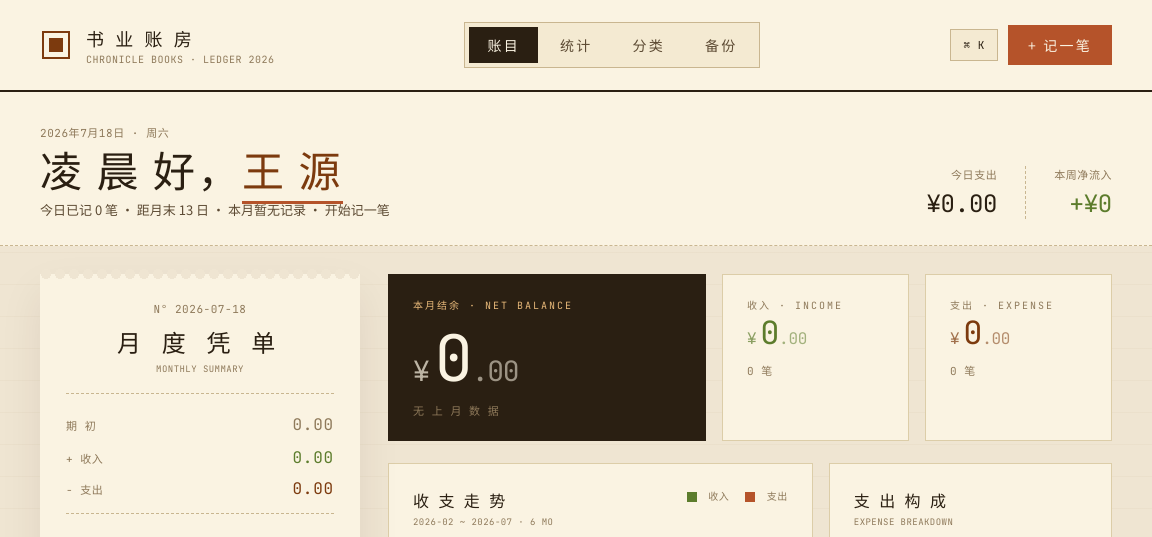
账本用户行为基线 › 期初余额编辑会在关闭前同步刷新本地副本
This screenshot has width=1152, height=537.
Step 1. Click the button titled "点击编辑期初余额" → (81, 426), box [58,412,342,437]
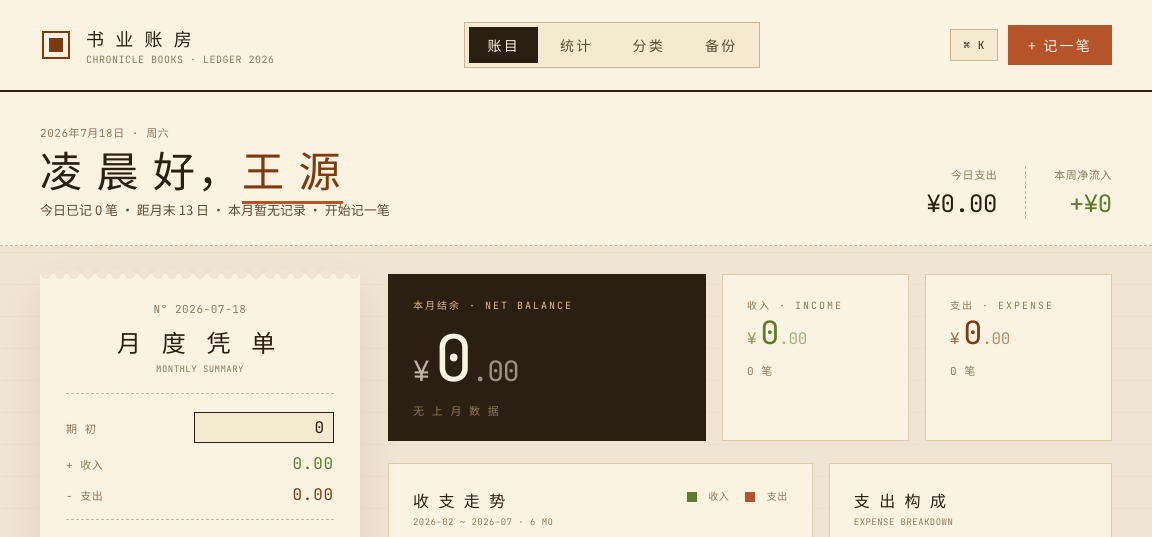
Now the field is shown
Step 2. Replace the text in the field with "777" → (264, 428), box [194,412,334,443]
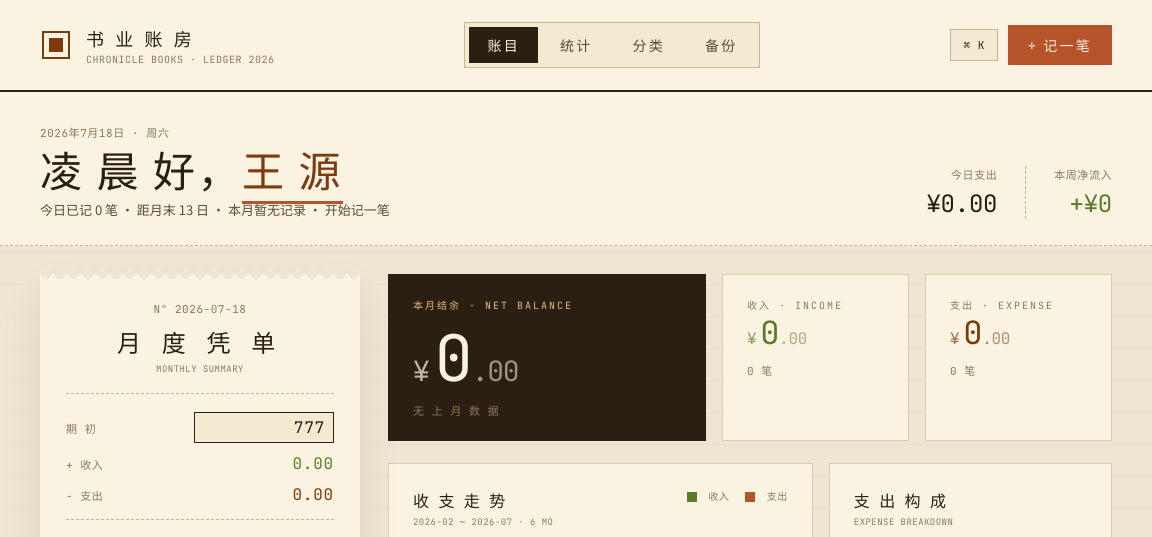
Step 3. Press Enter in the field, box [194,412,334,443]
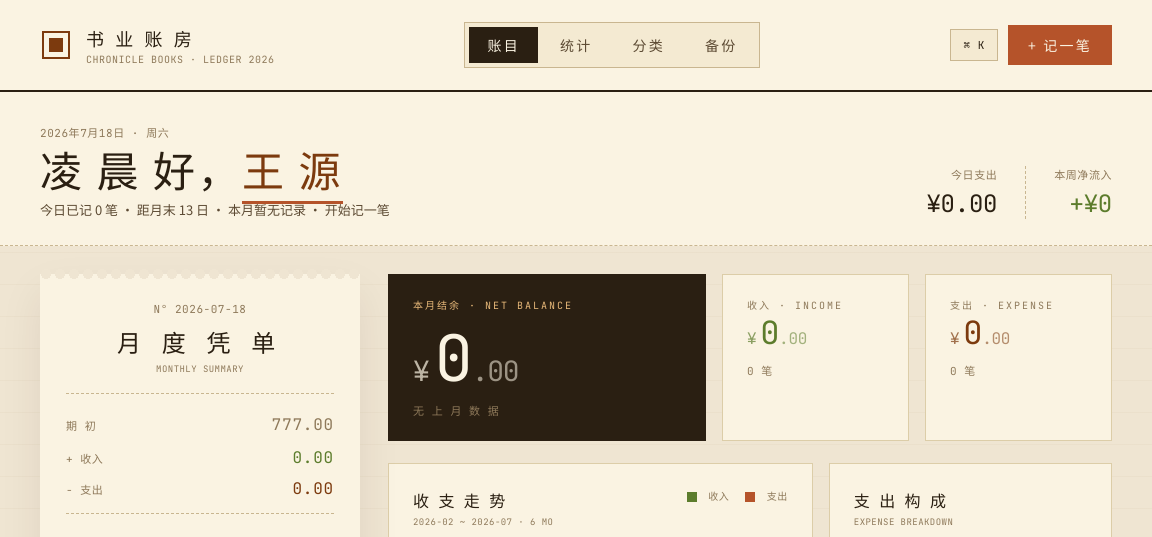
Now the 1st text "777.00" is shown, box [272,414,334,435]
